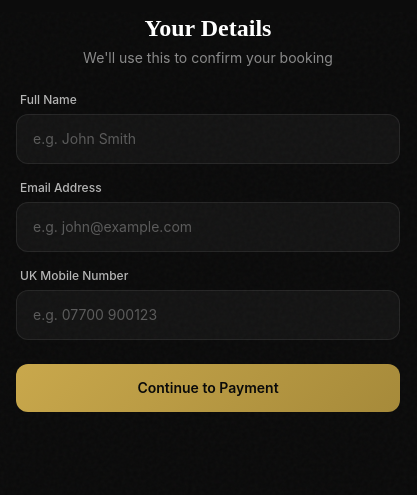
Test: CustomerForm Component › validates email address format
Type "invalid-email" into the field labelled "Email Address". click: (208, 227)
box: [16,202,400,252]
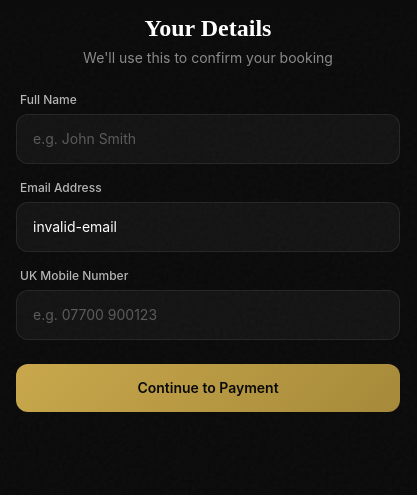
Click the button "Continue to Payment". click: (208, 388)
box: [16,364,400,412]
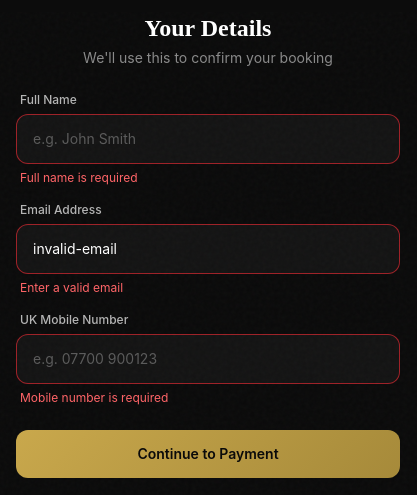
Expected: the text "Enter a valid email" is shown, [20,280,123,295]
